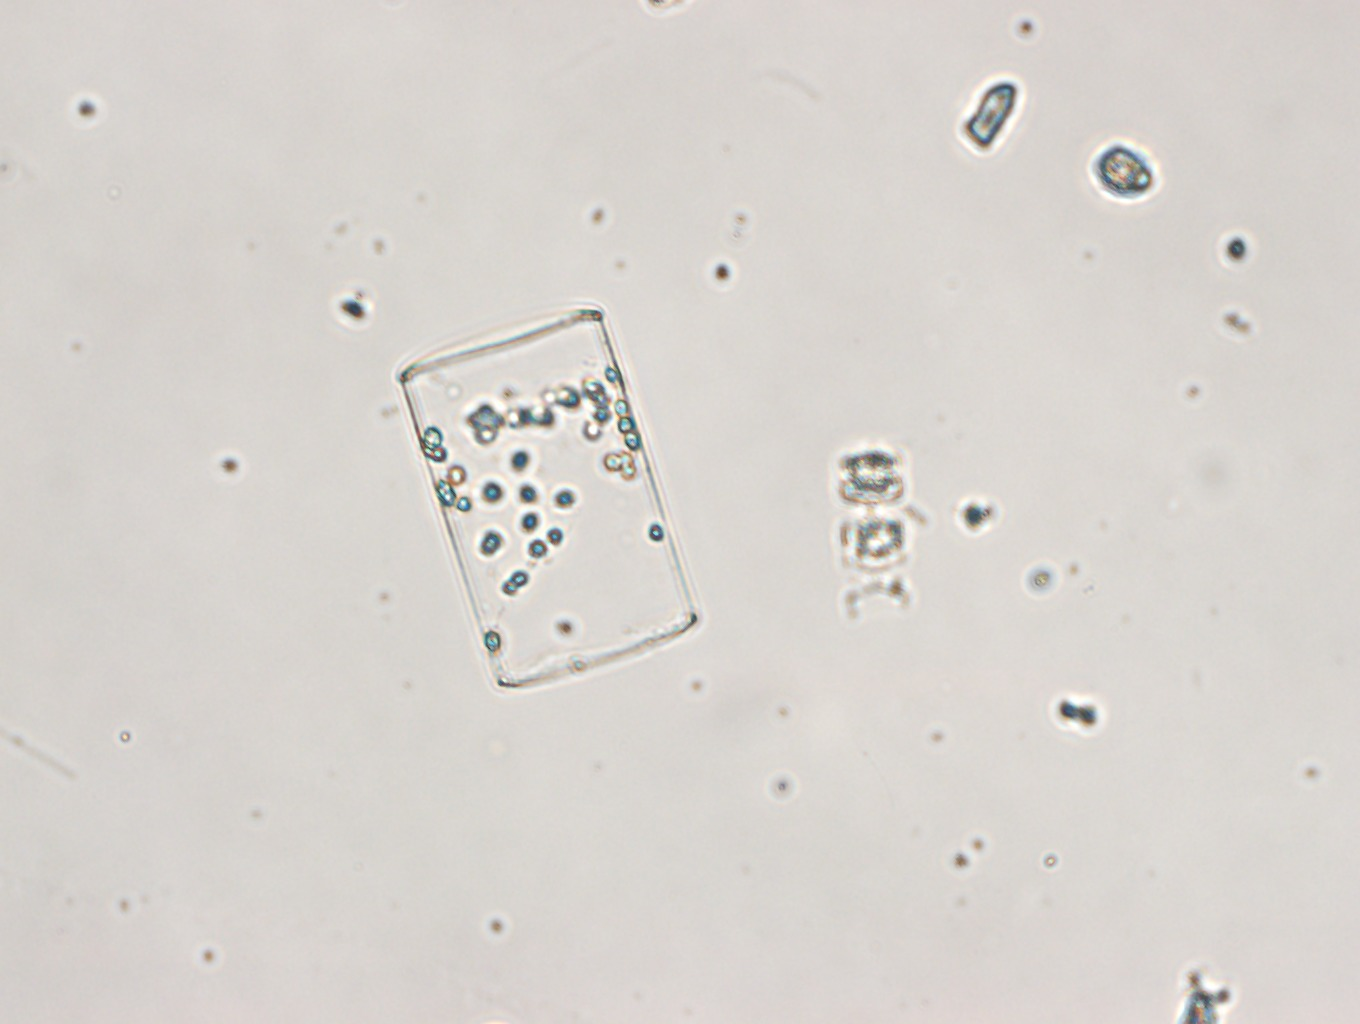guinardia flaccida: (388, 313, 705, 697)
